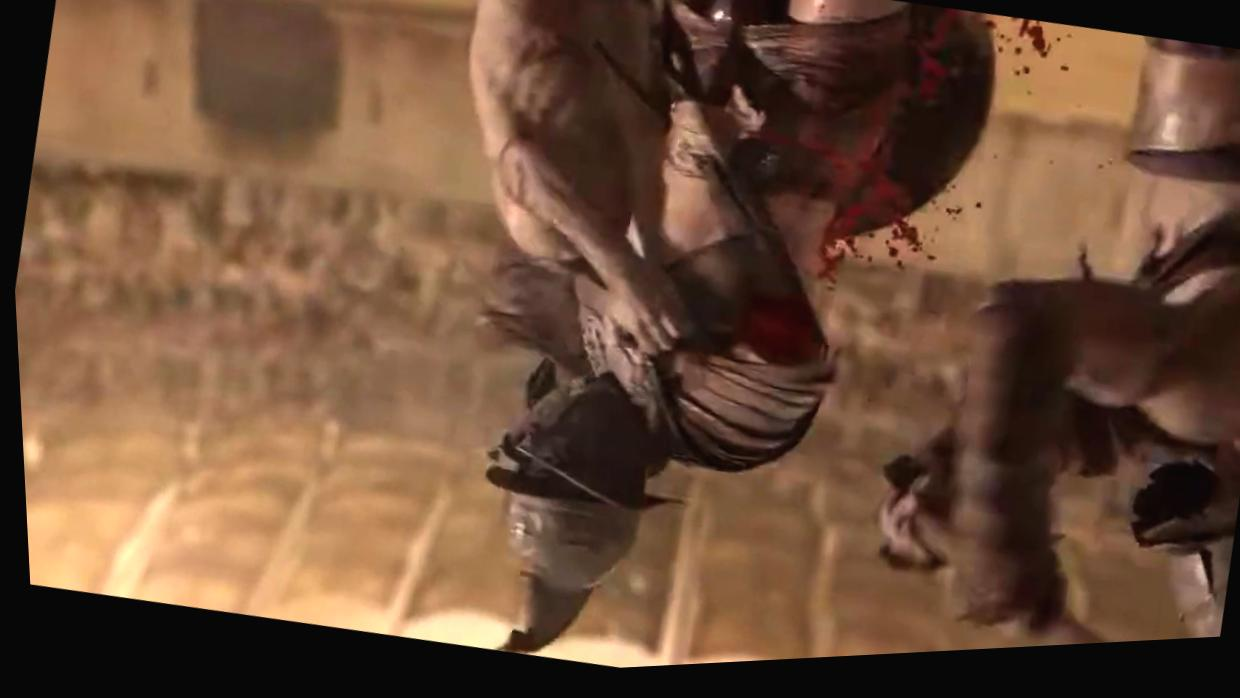Fire: (816, 12, 994, 288), (733, 304, 822, 374), (986, 24, 1071, 93)
